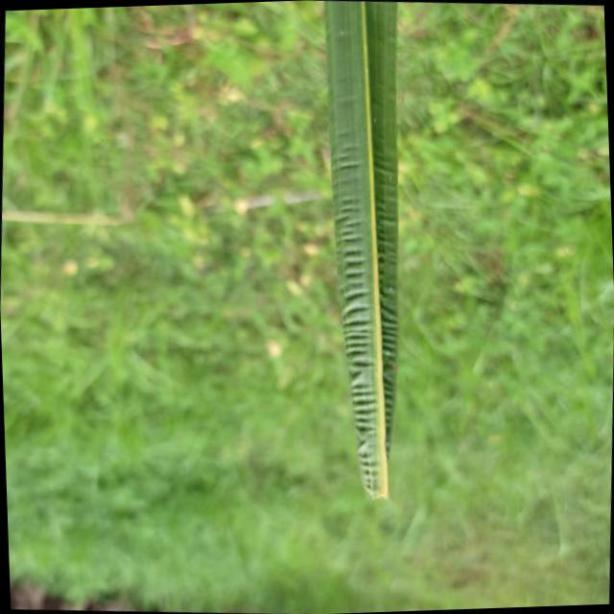Boron: (321, 0, 403, 500)
